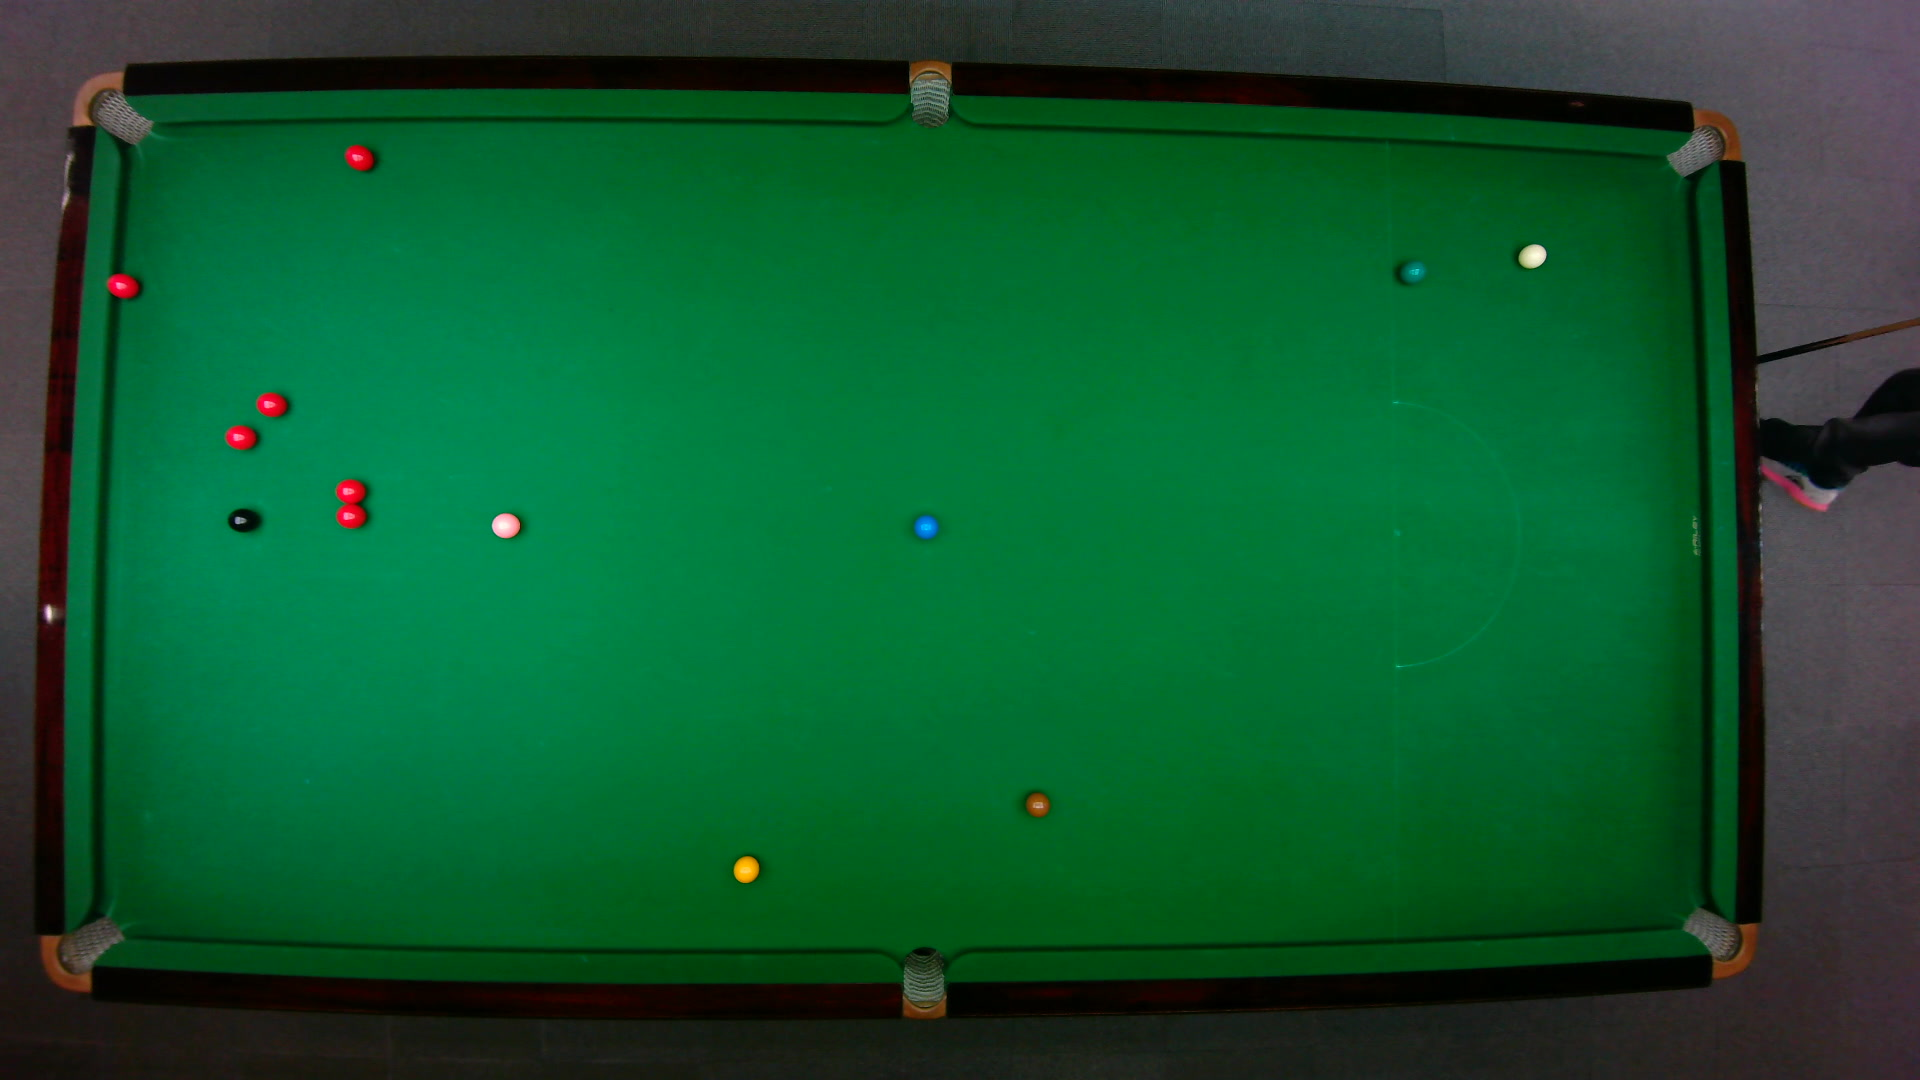bag: (37, 914, 127, 992), (69, 69, 153, 145), (1677, 905, 1756, 978), (1663, 108, 1741, 178), (901, 944, 944, 1021), (909, 57, 949, 128)
black: (224, 505, 257, 531)
blue: (911, 512, 938, 539)
brown: (1022, 790, 1050, 818)
green: (1396, 258, 1427, 284)
pink: (489, 509, 520, 539)
red: (104, 270, 140, 299), (222, 423, 257, 450), (343, 142, 375, 171), (334, 502, 367, 530), (255, 390, 287, 417), (334, 476, 367, 502)
white: (1515, 241, 1547, 269)
yellow: (731, 853, 760, 884)
zone: (1390, 400, 1520, 669)
